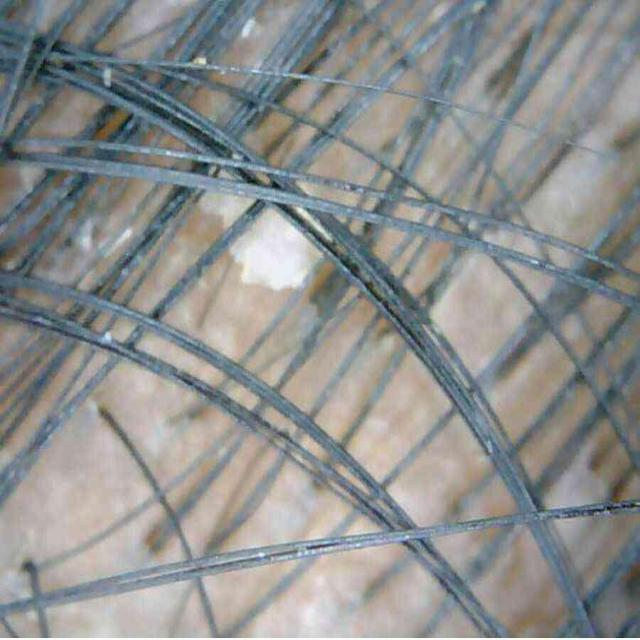d: (230, 209, 320, 291), (231, 209, 319, 290), (200, 192, 250, 225), (76, 218, 95, 253), (240, 17, 255, 39)
